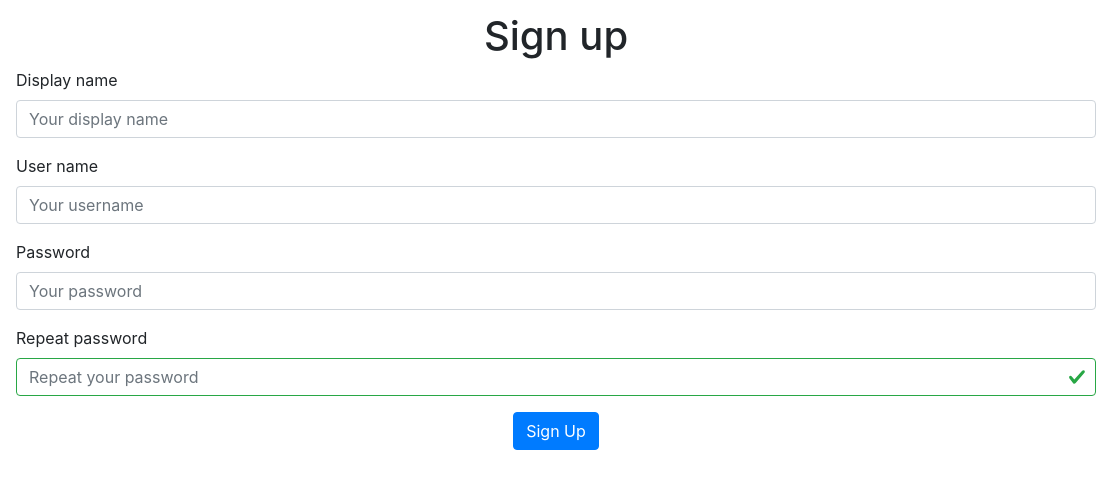
Test: UserSignupPage › Interactions › hides the validation error when user changes the content of display name
This screenshot has width=1113, height=490.
Type "my-display-name" into the field with placeholder "Your display name".
click(556, 119); type("my-display-name")  # box [16, 100, 1096, 138]
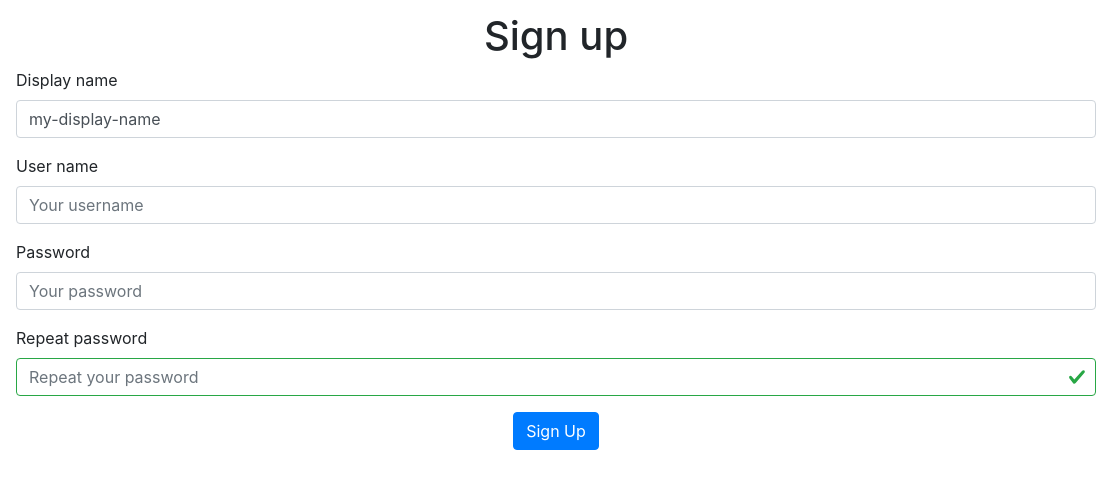
Type "my-user-name" into the field with placeholder "Your username".
click(556, 205); type("my-user-name")  # box [16, 186, 1096, 224]
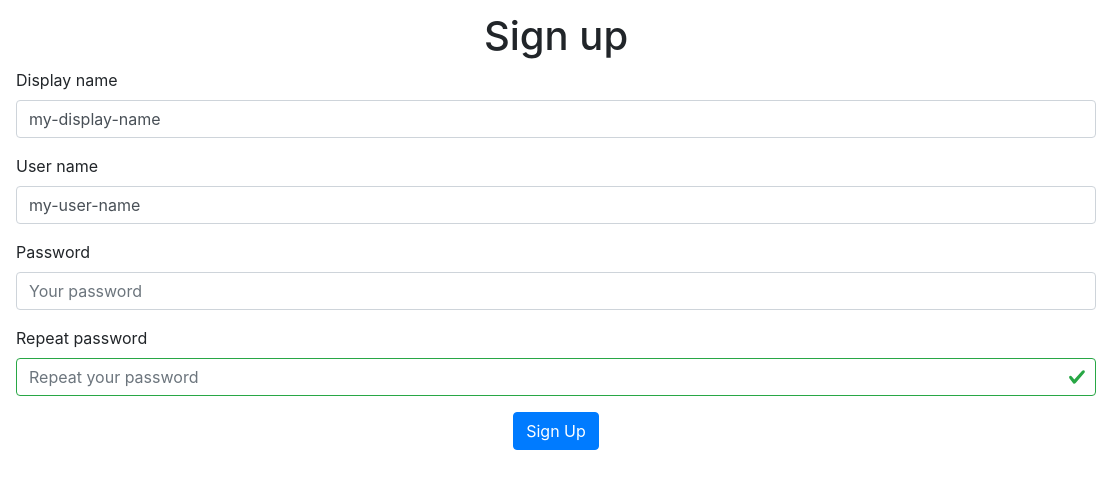
Type "P4ssword" into the password field with placeholder "Your password".
click(556, 291); type("P4ssword")  # box [16, 272, 1096, 310]
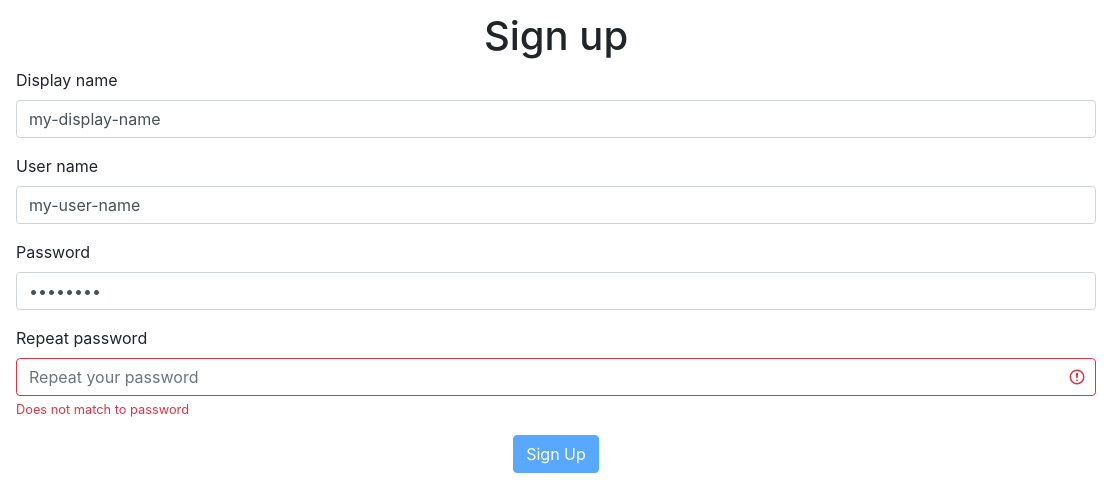
Type "P4ssword" into the password field with placeholder "Repeat your password".
click(556, 377); type("P4ssword")  # box [16, 358, 1096, 396]
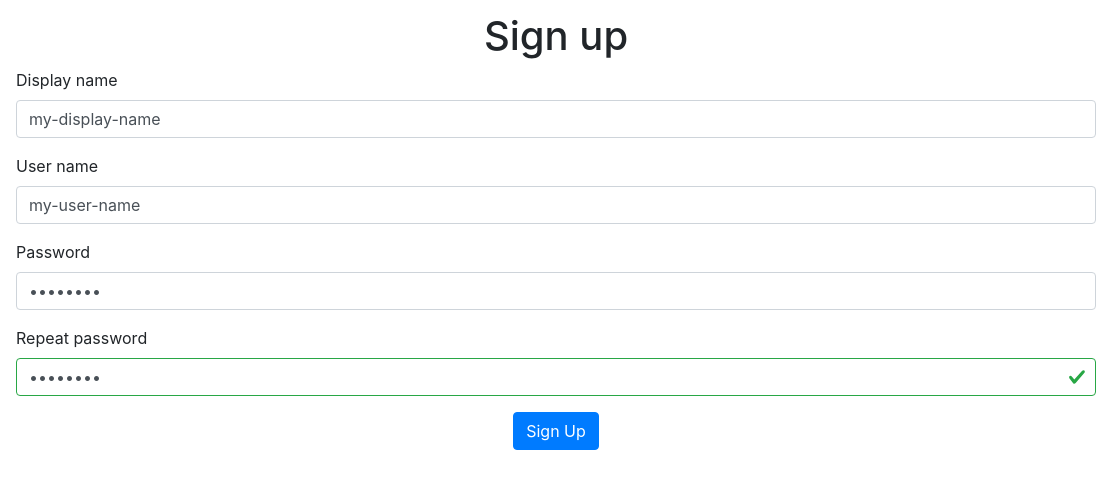
Click the button "Sign Up".
click(556, 431)  # box [513, 412, 599, 450]
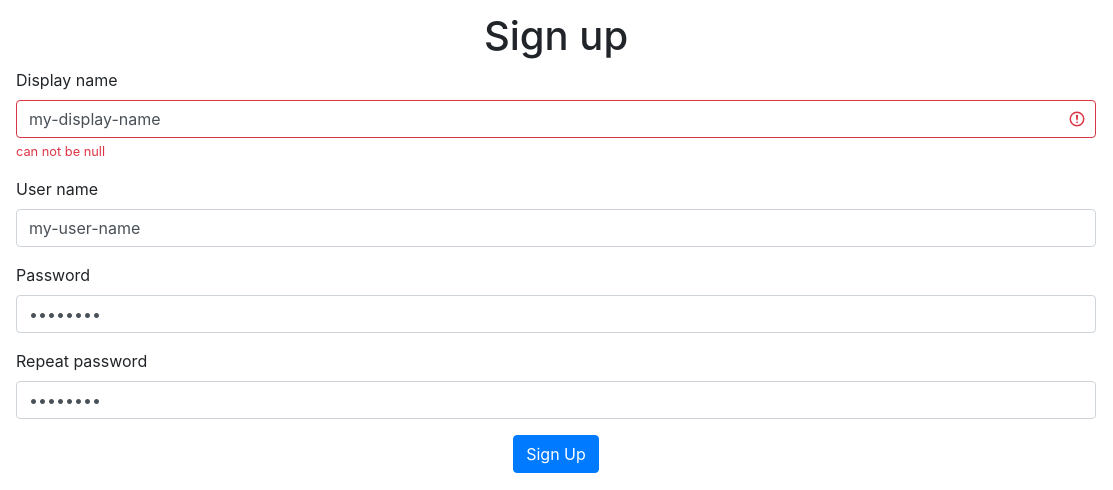
Now the text "can not be null" is shown, box [16, 144, 105, 159]
Replace the text in the field with placeholder "Your display name" below "Display name" with "name updated" at coordinates (556, 119), box [16, 100, 1096, 138]
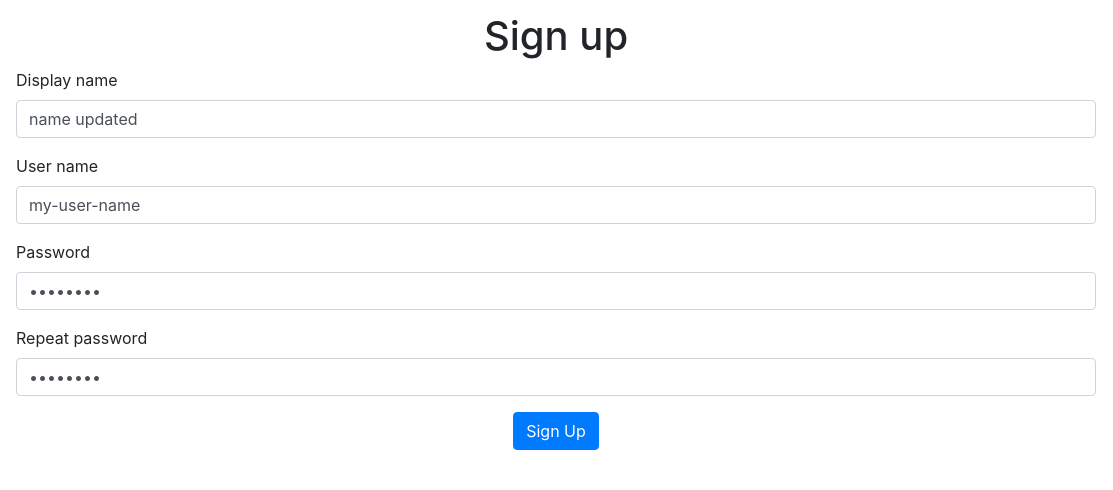
Now the text "can not be null" is gone
